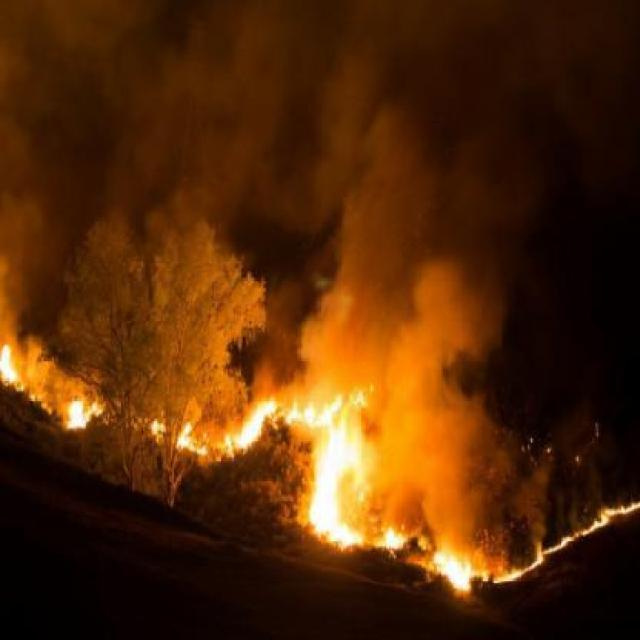Fire: (310, 378, 373, 550), (493, 511, 600, 589), (228, 398, 273, 454), (436, 549, 472, 591), (178, 418, 206, 454), (66, 396, 86, 429), (0, 342, 14, 388), (282, 403, 311, 425), (150, 417, 165, 440), (92, 401, 106, 417)
